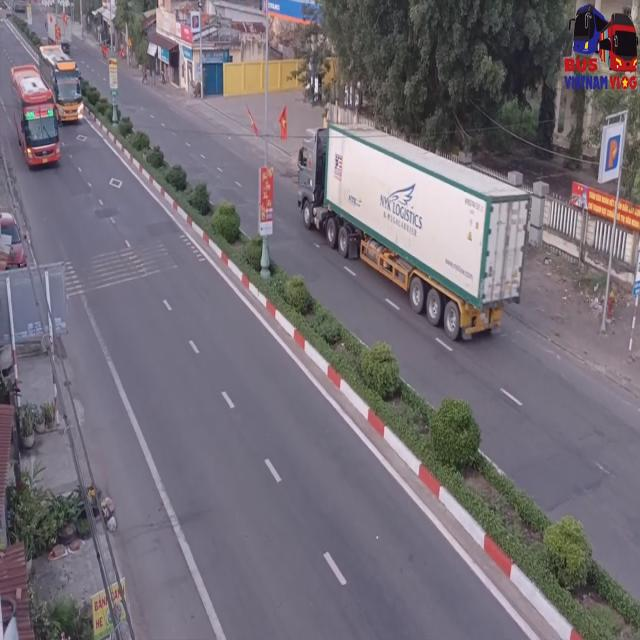bus: (11, 65, 59, 172), (38, 43, 85, 124)
truck: (297, 124, 530, 347)
